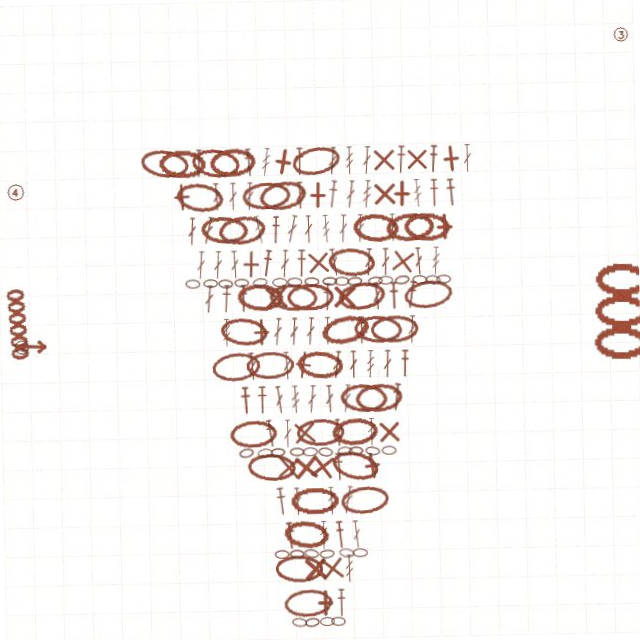chain: (326, 447, 379, 486), (319, 312, 371, 349), (293, 143, 346, 179), (260, 177, 311, 212), (142, 144, 193, 178), (193, 144, 244, 178), (337, 280, 387, 314), (177, 178, 227, 212), (403, 280, 454, 313), (336, 485, 387, 517), (210, 349, 261, 381), (278, 518, 327, 551), (219, 314, 268, 347), (219, 212, 268, 245), (295, 349, 344, 381), (353, 315, 403, 346), (328, 247, 378, 278), (244, 451, 293, 482), (353, 383, 402, 414), (202, 213, 251, 244), (387, 213, 436, 244), (244, 180, 294, 210), (329, 417, 377, 448), (338, 383, 386, 414), (237, 281, 285, 312), (354, 213, 402, 244), (212, 145, 260, 176), (278, 588, 327, 618), (227, 418, 276, 448), (269, 282, 318, 312), (161, 146, 209, 176), (294, 418, 343, 447), (370, 316, 419, 345), (270, 554, 318, 583), (245, 350, 293, 379), (405, 214, 453, 243), (287, 487, 335, 515), (287, 283, 335, 311), (299, 548, 315, 559), (334, 548, 350, 559), (236, 446, 252, 457), (253, 276, 269, 287), (395, 276, 411, 287), (315, 447, 331, 457), (362, 447, 378, 457), (368, 277, 384, 287), (426, 277, 442, 287), (286, 617, 301, 627), (299, 617, 314, 627), (315, 549, 330, 559), (255, 447, 270, 457), (219, 277, 234, 287), (348, 277, 363, 287), (314, 617, 329, 626), (325, 617, 340, 626), (270, 549, 285, 558), (285, 549, 300, 558), (348, 549, 363, 558), (268, 447, 283, 456), (287, 447, 302, 456), (300, 447, 315, 456), (335, 447, 350, 456), (346, 447, 361, 456), (379, 447, 394, 456), (186, 277, 201, 286), (204, 277, 219, 286), (235, 277, 250, 286), (273, 277, 288, 286), (288, 277, 303, 286), (305, 277, 320, 286), (323, 277, 338, 286), (335, 277, 350, 286), (379, 277, 394, 286), (413, 277, 428, 286), (437, 277, 452, 286)
double: (203, 214, 217, 243), (287, 214, 301, 243), (338, 486, 351, 515), (329, 248, 342, 277), (272, 385, 284, 413), (339, 385, 351, 413), (330, 351, 342, 379), (347, 181, 359, 209), (347, 521, 358, 549), (305, 385, 316, 413), (246, 351, 257, 379), (272, 317, 283, 345), (305, 317, 316, 345), (204, 283, 215, 311), (372, 283, 383, 311), (330, 147, 341, 175), (289, 487, 299, 515), (331, 419, 341, 447), (323, 385, 333, 413), (281, 351, 291, 379), (289, 317, 299, 345), (407, 317, 417, 345), (197, 249, 207, 277), (214, 249, 224, 277), (231, 249, 241, 277), (281, 249, 291, 277), (365, 249, 375, 277), (415, 249, 425, 277), (189, 215, 199, 243), (340, 215, 350, 243), (357, 215, 367, 243), (214, 181, 224, 209), (247, 181, 257, 209), (365, 147, 375, 175), (281, 419, 290, 447), (348, 351, 357, 379), (382, 351, 391, 379), (323, 317, 332, 345), (357, 317, 366, 345), (382, 249, 391, 277), (306, 215, 315, 243), (390, 215, 399, 243), (231, 181, 240, 209), (298, 181, 307, 209), (466, 147, 475, 175)
enseble_chain: (588, 267, 640, 372), (4, 282, 32, 357)
half_double: (271, 486, 285, 515), (388, 384, 402, 413), (405, 282, 419, 311), (262, 418, 275, 447), (262, 248, 275, 277), (329, 180, 342, 209), (447, 181, 460, 209), (280, 521, 292, 549), (330, 521, 342, 549), (330, 453, 342, 481), (238, 385, 250, 413), (221, 283, 233, 311), (322, 283, 334, 311), (246, 147, 258, 175), (398, 147, 410, 175), (255, 385, 266, 413), (389, 283, 400, 311), (297, 249, 308, 277), (272, 215, 283, 243), (431, 181, 442, 209), (297, 147, 308, 175), (431, 147, 442, 175), (331, 589, 341, 617), (399, 351, 409, 379), (239, 283, 249, 311), (197, 147, 207, 175)
noise: (13, 333, 48, 348), (11, 331, 32, 352), (8, 176, 28, 196), (617, 31, 636, 50)
single: (388, 247, 420, 279), (270, 145, 302, 177), (312, 553, 343, 584), (304, 451, 335, 482), (354, 451, 385, 482), (287, 349, 318, 380), (271, 452, 301, 482), (288, 452, 318, 482), (439, 146, 469, 176), (296, 554, 325, 583), (288, 418, 317, 447), (262, 282, 291, 311), (305, 248, 334, 277), (170, 180, 199, 209), (306, 589, 334, 617), (373, 419, 401, 447), (247, 317, 275, 345), (331, 283, 359, 311), (238, 249, 266, 277), (432, 215, 460, 243), (306, 181, 334, 209), (373, 181, 401, 209), (390, 181, 418, 209), (373, 147, 401, 175), (406, 147, 434, 175)
treble: (254, 214, 268, 243), (263, 147, 275, 175), (364, 181, 375, 209), (323, 487, 333, 515), (289, 385, 299, 413), (432, 249, 442, 277), (323, 215, 333, 243), (415, 181, 425, 209), (340, 555, 349, 583), (315, 521, 324, 549), (365, 419, 374, 447), (365, 351, 374, 379), (222, 317, 231, 345), (348, 147, 357, 175)
